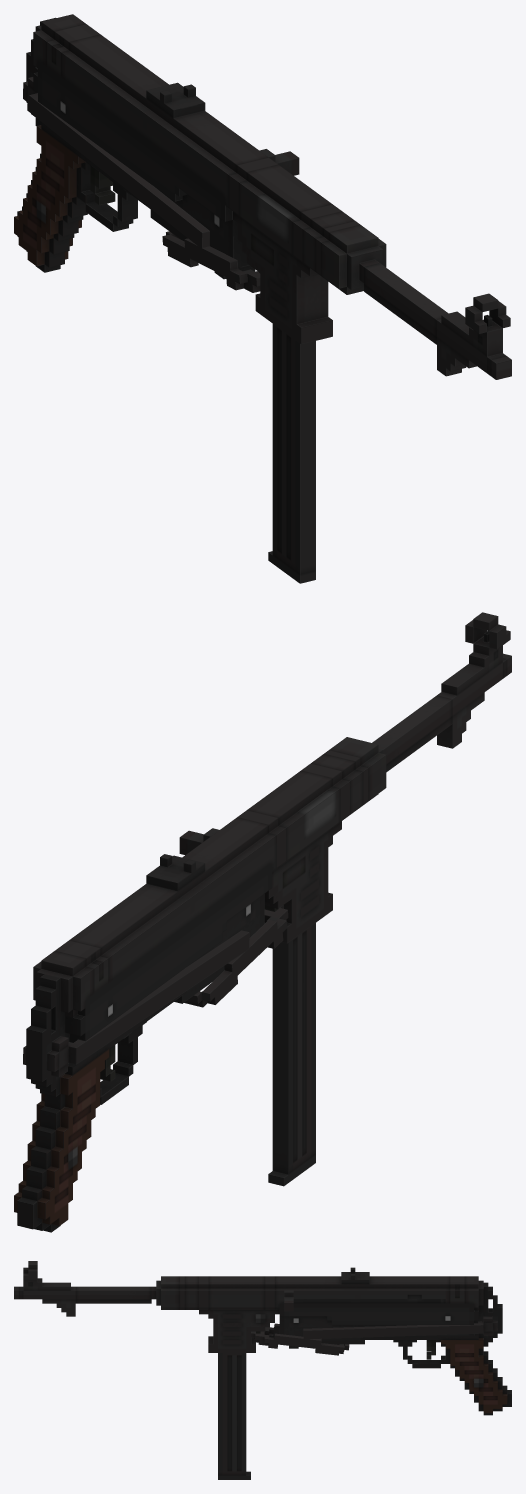
3 renders of one model, top to bottom at view 1: azimuth 30°, elevation 25°; view 2: azimuth 150°, elevation 25°; view 3: azimuth 270°, elevation 25°, orthographic. The views are drawn at different scales.
Parts seen in each view (by area): view 1: MP40, MP40_CLIP, MP40_BODY_P2, MP40_BODY_P3; view 2: MP40, MP40_CLIP, MP40_BODY_P2, MP40_BODY_P3; view 3: MP40, MP40_CLIP, MP40_BODY_P2, MP40_BODY_P3.
Boxes of the visible parts, x1,y1,x2,y2 form: MP40: [14, 14, 511, 379]; MP40_CLIP: [268, 324, 315, 583]; MP40_BODY_P2: [23, 77, 209, 247]; MP40_BODY_P3: [162, 231, 260, 292]; MP40: [14, 612, 511, 1232]; MP40_CLIP: [268, 923, 315, 1186]; MP40_BODY_P2: [23, 930, 249, 1077]; MP40_BODY_P3: [184, 905, 288, 1007]; MP40: [14, 1261, 511, 1415]; MP40_CLIP: [218, 1353, 250, 1479]; MP40_BODY_P2: [303, 1316, 497, 1339]; MP40_BODY_P3: [251, 1323, 349, 1355].
Size of the model in its own units: 0.0984 by 0.4921 by 1.03.
1 material, 1 textured.
